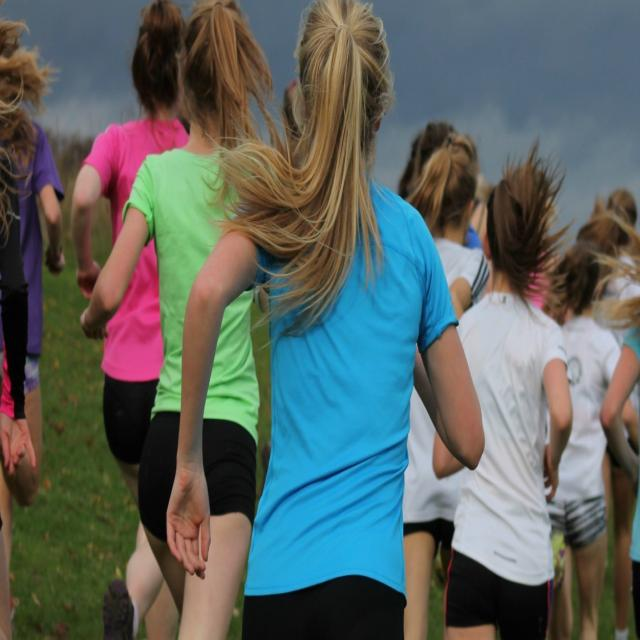body: (162, 0, 489, 639), (80, 0, 274, 639), (73, 0, 193, 640), (432, 136, 574, 639), (397, 128, 493, 638), (0, 17, 67, 624), (546, 248, 624, 639), (0, 58, 38, 634), (593, 235, 640, 633), (465, 180, 565, 318), (593, 186, 640, 298), (398, 124, 449, 210), (435, 483, 459, 632)
